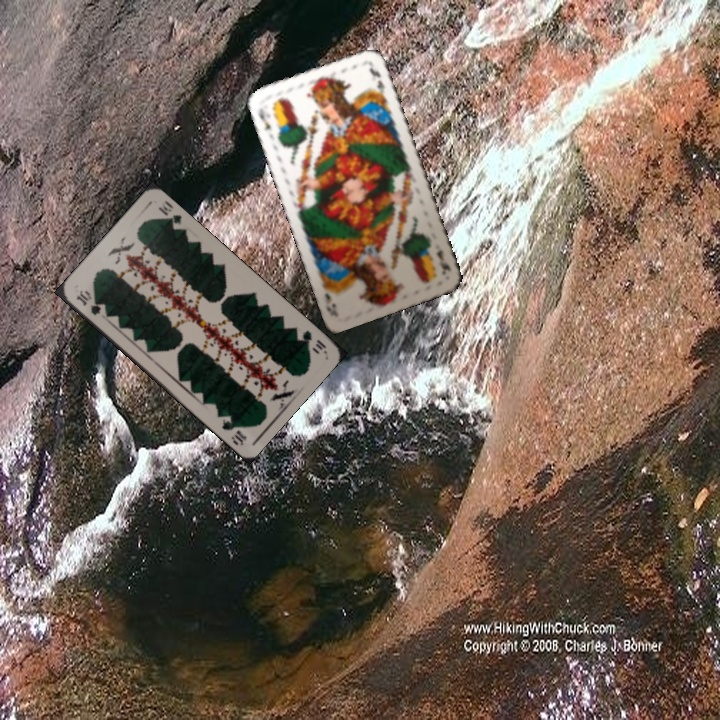EK: (432, 245, 454, 277), (254, 104, 273, 133)
G10: (72, 286, 104, 318), (297, 326, 329, 355)
